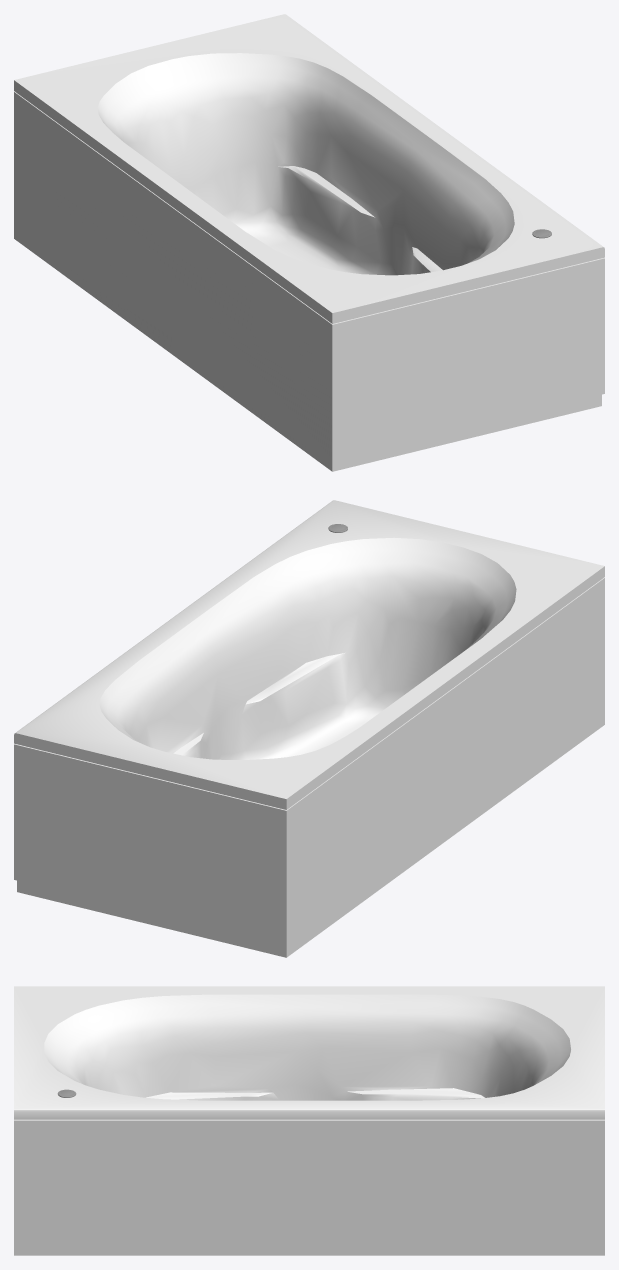
File: SM_Bath_1.fbx
3 views of the same model, one above another, from view 1: azimuth 30°, elevation 25°; view 2: azimuth 150°, elevation 25°; view 3: azimuth 270°, elevation 25° (orthographic). The views are drawn at different scales.
Visible parts, largest first — view 1: SM_Bath_1; view 2: SM_Bath_1; view 3: SM_Bath_1.
Boxes of the visible parts, left/top/right/bottom form: SM_Bath_1: left=14, top=14, right=604, bottom=471; SM_Bath_1: left=14, top=500, right=604, bottom=957; SM_Bath_1: left=14, top=986, right=604, bottom=1255.
Size of the model in its own units: 0.79 by 0.4435 by 1.6.
2 materials, 1 textured.
